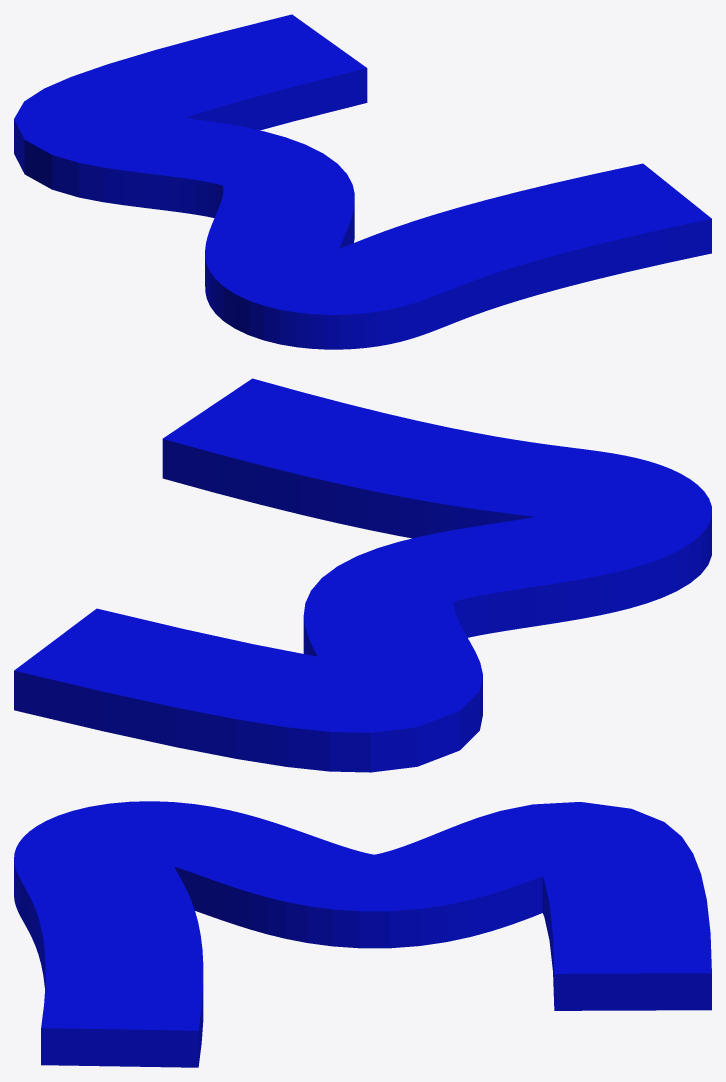
3 renders of one model, top to bottom at view 1: azimuth 30°, elevation 25°; view 2: azimuth 150°, elevation 25°; view 3: azimuth 270°, elevation 25°, orthographic. The views are drawn at different scales.
Parts seen in each view (by area): view 1: NurbsPath.001; view 2: NurbsPath.001; view 3: NurbsPath.001.
Boxes of the visible parts, bbox=[...] form: NurbsPath.001: bbox=[14, 14, 711, 349]; NurbsPath.001: bbox=[14, 378, 711, 772]; NurbsPath.001: bbox=[14, 801, 711, 1067].
Bounding box in the file's own units: 119 × 8.98 × 153.
